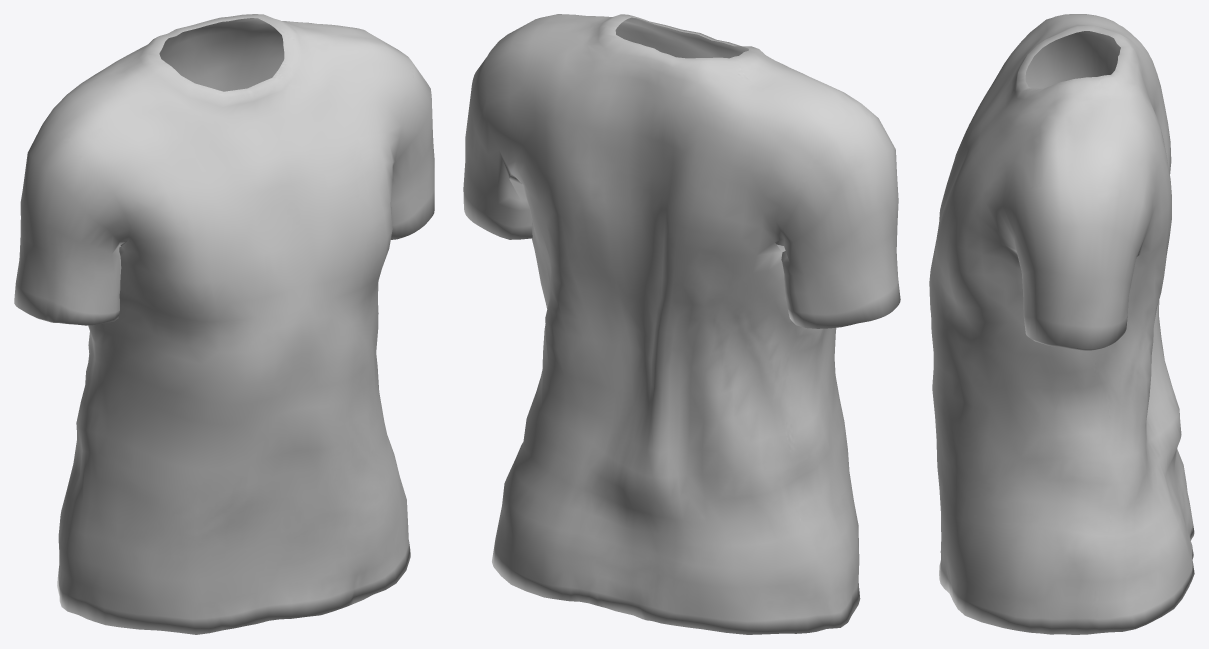
Rendered from top_white_tee.gltf.
The picture shows the model from 3 angles, left to right: view 1: azimuth 30°, elevation 25°; view 2: azimuth 150°, elevation 25°; view 3: azimuth 270°, elevation 25°; orthographic projection. The views are drawn at different scales.
Visible parts, largest first — view 1: top_white_tee; view 2: top_white_tee; view 3: top_white_tee.
Part boxes in pixels (x1,y1,x2,y2): top_white_tee: [14, 14, 434, 634]; top_white_tee: [463, 14, 900, 634]; top_white_tee: [929, 14, 1194, 634].
Bounding box in the file's own units: 0.4737 × 0.5934 × 0.2781.
1 material, 1 textured.
